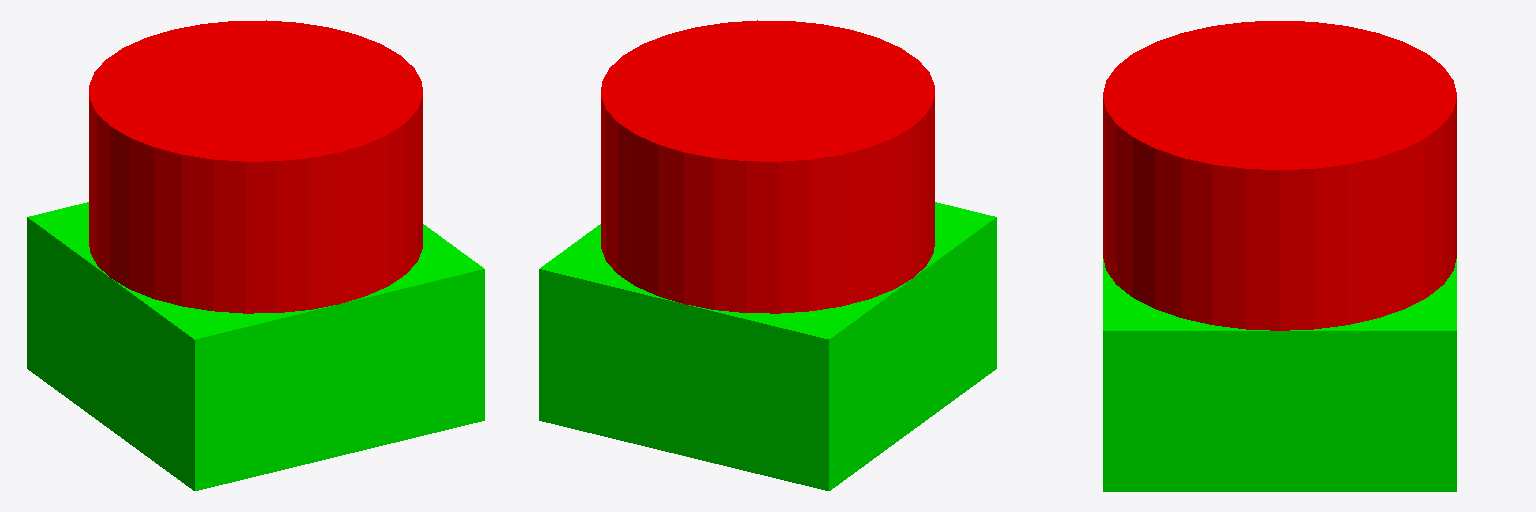
The robot description file, URDF, robot "block_robot":
<?xml version="1.0"?>
<!-- 
	This is a very simple robot designed to help explore how ROS and Gazebo
	can interact to simulate a very simple (point) robot.

	The robot consists of a block 10cm x 10cm x 5cm high with the density of copper (9.0 g/cc)
        Given the size of the block it has a mass of 4.5 kg
	
        Diagonal elements of the moments of inertia are 
          Ixx = 1/12 * M * (h^2+d^2) = 1/12 * 4.5 * (0.05^2+0.1^2) = 4.6875x 10^-3
          Iyy = 1/12 * M * (h^2+w^2) = 1/12 * 4.5 * (0.05^2+0.1^2) = 4.6875x 10^-3
          Izz = 1/12 * M * (w^2+d^2) = 1/12 * 4.5 = (0.1^2+0.1^2) = 7.5x 10-3
	Mounted on top of this is a cylinder r=5cm h=5cm which simulates a LIDAR with one sample every degree

	This cylinder is (almost) massless (0.01 kg)

        Diagonal elements of the moments of inertia are 
          Ixx = 1/12 * M * h^2 + 1/4 * M * r^2 = 1/12 * 0.01 * 0.05^2 + 1/4 * 0.01 * 0.05^2 = 2.0833x10^-6 + 6.25x10^-6 = 8.3383x10^-6
          Iyy = 1/12 * M * h^2 + 1/4 * M * r^2 = 1/12 * 0.01 * 0.05^2 + 1/4 * 0.01 * 0.05^2 = 2.0833x10^-6 + 6.25x10^-6 = 8.3383x10^-6
          Izz = 1/2 * M * r^2 = 1/2 * 0.01 * 0.01 * 0.05^2 = 1.25x 10^-7

	The robot is equipped with one LIDAR with 360 samples (one per degree) from -180 to +179

	Version 1.1.
	Copyright (c) [author] and [author].

	-->

<robot name="block_robot">
  <material name="red">
    <color rgba="1 0 0 1"/>
  </material>
  <material name="green">
    <color rgba="0 1 0 1"/>
  </material>

  <link name="base_footprint">
  </link>

  <gazebo reference="base_link">
    <material>Gazebo/Green</material>
  </gazebo>
  <link name="base_link">
    <visual>
      <geometry>
        <box size="0.10 0.10 0.05" />
      </geometry>
      <material name="green"/>
    </visual>
    <collision>
      <geometry>
        <box size="0.10 0.10 0.05" />
      </geometry>
    </collision>
    <inertial>
      <mass value="4.5" />
      <inertia ixx="4.6875e-3" iyy="4.6875e-3" izz="7.5e-3" ixy="0" ixz="0" iyz="0" />
    </inertial>
  </link>

  <gazebo reference="laser_link">
    <material>Gazebo/Red</material>
  </gazebo>
  <link name="laser_link">
    <visual>
      <geometry>
        <cylinder length="0.05" radius="0.05" />
      </geometry>
      <material name="red"/>
    </visual>
    <collision>
      <geometry>
        <cylinder length="0.05" radius="0.05" />
      </geometry>
    </collision>
    <inertial>
      <mass value="0.01" />
      <inertia ixx="8.33e-6" iyy="8.33e-6" izz="1.25e-7" ixy="0" ixz="0" iyz="0" />
    </inertial>
  </link>

  <joint name="base_joint" type="fixed">
    <origin xyz="0.0 0.0 0.025" rpy="0.0 0.0 0.0" />
    <parent link="base_footprint" />
    <child link="base_link" />
    <axis xyz="0 0 1" />
  </joint>

  <joint name="laser_joint" type="fixed">
    <origin xyz="0.0 0.0 0.05" rpy="0.0 0.0 0.0" />
    <parent link="base_link" />
    <child link="laser_link" />
    <axis xyz="0 0 1" />
  </joint>


  <gazebo reference="laser_link">
    <static>true</static>
    <sensor type="ray" name="laser_controller"> 
      <pose>0 0 0 0 0 0</pose>
      <visualize>true</visualize>
      <update_rate>10</update_rate>
      <ray>
        <scan>
          <horizontal>
            <samples>360</samples>
            <resolution>1</resolution>
            <min_angle>-3.1415</min_angle>
            <max_angle>3.1240</max_angle>
          </horizontal>
        </scan>
        <range>
          <min>0.20</min>
          <max>10.0</max>
          <resolution>0.01</resolution>
        </range>
      </ray>
      <plugin name="laser_controller" filename="libgazebo_ros_ray_sensor.so">
        <ros>
          <namespace>/</namespace>
          <remapping>~/out:=scan</remapping>
        </ros>
        <frameName>laser_link</frameName>
        <output_type>sensor_msgs/LaserScan</output_type>
      </plugin>
    </sensor>
  </gazebo>

  <gazebo>
    <plugin name="object_controller" filename="libgazebo_ros_planar_move.so">
      <commandTopic>cmd_vel</commandTopic>
      <odometryTopic>odom</odometryTopic>
      <odometryFrame>odom</odometryFrame>
      <odometryRate>20.0</odometryRate>
      <robotBaseFrame>base_footprint</robotBaseFrame>
    </plugin>
  </gazebo>

</robot>

--- What the picture shows (computed from the rendered views, not written in the file) ---
3 views of the same robot in one strip: view 1: azimuth 30°, elevation 25°; view 2: azimuth 150°, elevation 25°; view 3: azimuth 270°, elevation 25° (orthographic).
Model block_robot with 3 links and 2 joints (2 fixed), rooted at base_footprint, posed every joint at zero.
Visible links, largest first — view 1: laser_link, base_link; view 2: laser_link, base_link; view 3: laser_link, base_link.
Boxes of the visible links, x1,y1,x2,y2 form: laser_link: (89,20,422,313); base_link: (27,202,484,490); laser_link: (601,20,934,313); base_link: (539,202,996,490); laser_link: (1103,21,1456,330); base_link: (1103,259,1456,491).
Bounding box of the posed robot: 0.1 × 0.1 × 0.1 m (x, y, z).
Geometry: primitives only (box / cylinder / sphere), no mesh files.
